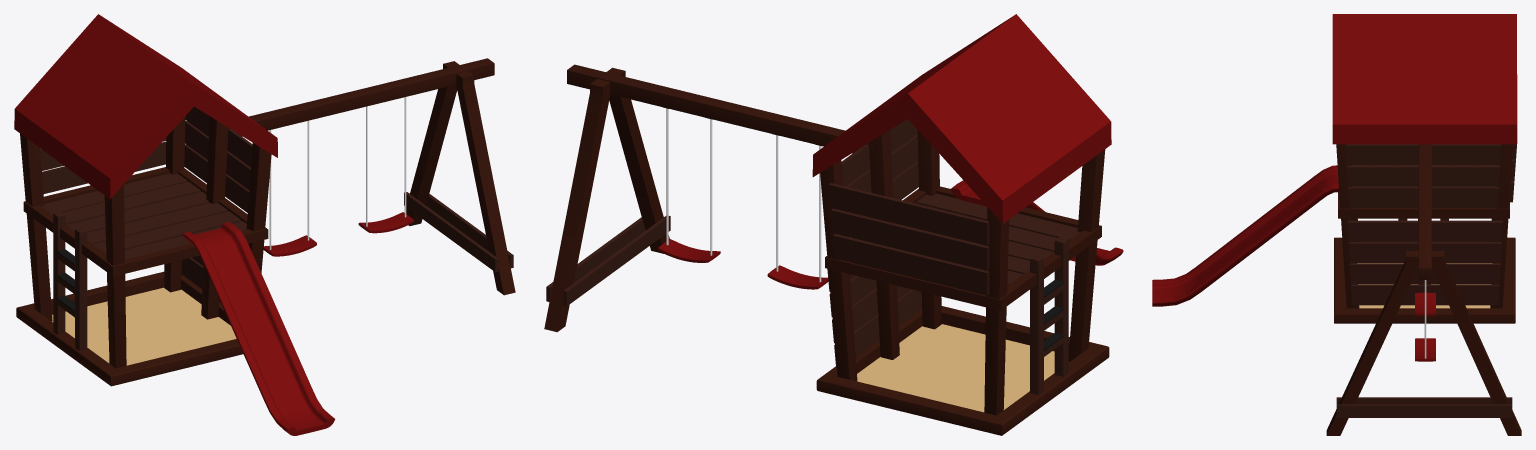
The model's file is Playground_1.FBX.
3 views of the same model, side by side, from view 1: azimuth 30°, elevation 25°; view 2: azimuth 150°, elevation 25°; view 3: azimuth 270°, elevation 25° (orthographic). The views are drawn at different scales.
Parts seen in each view (by area): view 1: Star001, Base, Slide, Panels4, Box023, Line002, Box005, Panels, Support00, Support005, Support01, Line003 (+9 smaller); view 2: Star001, Base, Panels2, Box023, Line003, Box005, Support005, Support00, Support01, Panels4, Support04, Line002 (+10 smaller); view 3: Star001, Panels3, Panels, Slide, Base, Line002, Line003, Box025, Box005, Box023, Support04, Support02 (+3 smaller).
Part boxes in pixels (box(x1,y1,x2,y2)): Star001: box(14, 14, 277, 198); Base: box(16, 271, 243, 386); Slide: box(182, 222, 334, 435); Panels4: box(42, 173, 247, 259); Box023: box(228, 58, 494, 136); Line002: box(456, 71, 515, 295); Box005: box(23, 167, 268, 276); Panels: box(184, 106, 252, 212); Support00: box(104, 184, 126, 368); Support005: box(53, 211, 87, 350); Support01: box(20, 133, 52, 321); Line003: box(406, 61, 459, 225); Star001: box(812, 14, 1111, 223); Base: box(816, 306, 1109, 435); Panels2: box(829, 183, 989, 295); Box023: box(567, 64, 874, 158); Line003: box(544, 79, 610, 332); Box005: box(825, 186, 1101, 310); Support005: box(1030, 237, 1068, 394); Support00: box(1068, 149, 1105, 362); Support01: box(984, 207, 1009, 415); Panels4: box(900, 193, 1080, 285); Support04: box(820, 160, 857, 381); Line002: box(606, 67, 669, 253); Star001: box(1332, 14, 1516, 144); Panels3: box(1347, 220, 1502, 305); Panels: box(1346, 144, 1501, 207); Slide: box(1152, 165, 1352, 306); Base: box(1334, 237, 1515, 323); Line002: box(1326, 251, 1418, 435); Line003: box(1431, 251, 1521, 435); Box025: box(1336, 404, 1512, 417); Box005: box(1338, 165, 1509, 218); Box023: box(1418, 144, 1431, 279); Support04: box(1490, 144, 1513, 308); Support02: box(1336, 144, 1359, 308).
Bounding box in the file's own units: 76.55 × 59.38 × 48.6.
